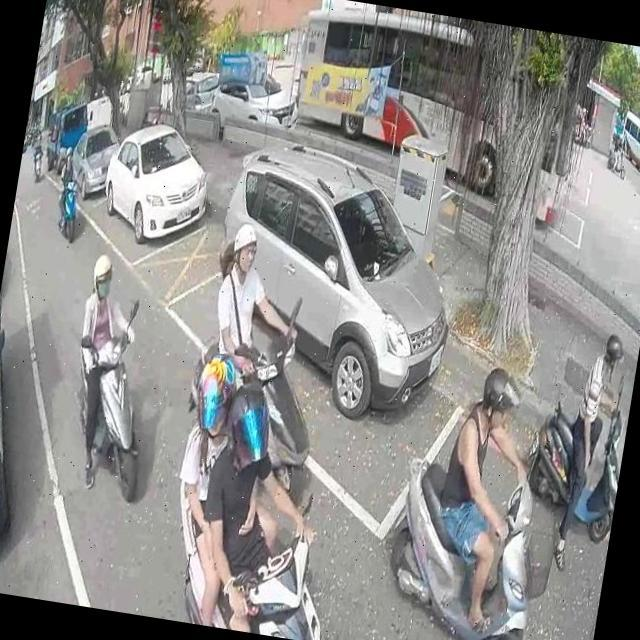person: (185, 358, 349, 640), (158, 346, 304, 634), (420, 356, 549, 640), (58, 246, 170, 497), (552, 324, 633, 566), (205, 222, 315, 378), (53, 142, 87, 232), (474, 620, 532, 640), (609, 130, 625, 172), (36, 136, 44, 154)
